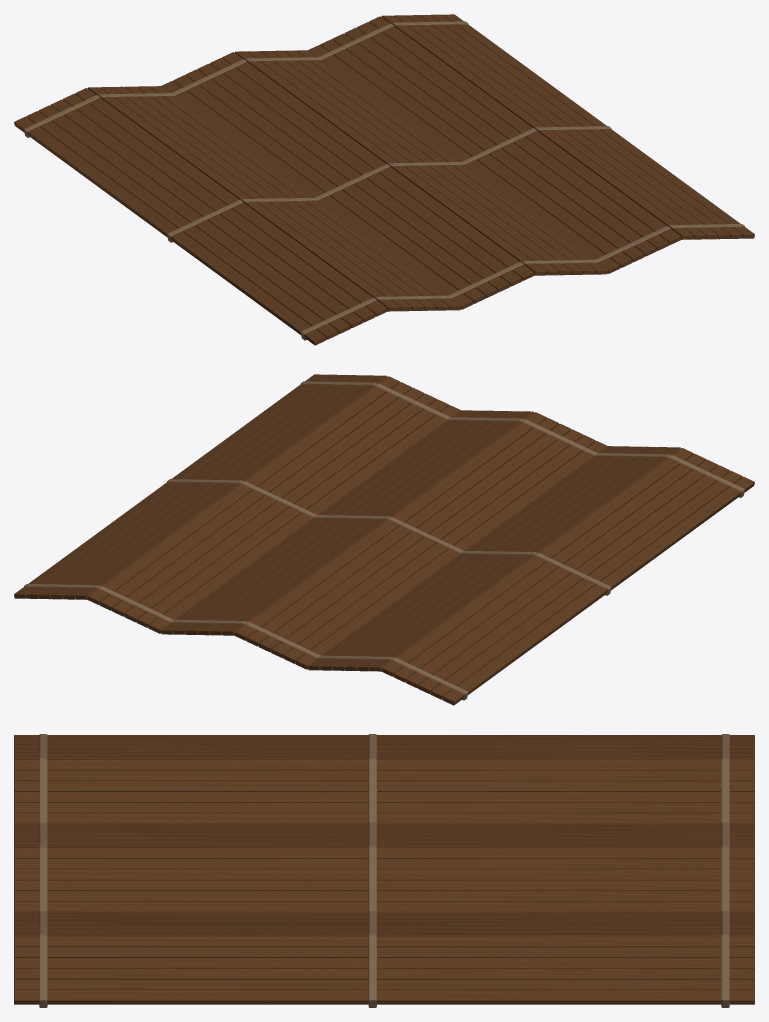
The model's file is retreat_expanded_a5_roof.glb.
3 renders of one model, top to bottom at view 1: azimuth 30°, elevation 25°; view 2: azimuth 150°, elevation 25°; view 3: azimuth 270°, elevation 25°, orthographic. The views are drawn at different scales.
Visible parts, largest first — view 1: CANON_Wood_Roof_Bay_1, CANON_Wood_Roof_Bay_2, CANON_Wood_Roof_Bay_3; view 2: CANON_Wood_Roof_Bay_1, CANON_Wood_Roof_Bay_3, CANON_Wood_Roof_Bay_2; view 3: CANON_Wood_Roof_Bay_3, CANON_Wood_Roof_Bay_1, CANON_Wood_Roof_Bay_2.
Boxes of the visible parts, x1,y1,x2,y2 form: CANON_Wood_Roof_Bay_1: (14,86,460,345); CANON_Wood_Roof_Bay_2: (161,50,607,309); CANON_Wood_Roof_Bay_3: (308,14,754,273); CANON_Wood_Roof_Bay_1: (308,446,754,705); CANON_Wood_Roof_Bay_3: (14,374,460,633); CANON_Wood_Roof_Bay_2: (161,410,607,669); CANON_Wood_Roof_Bay_3: (14,911,754,1007); CANON_Wood_Roof_Bay_1: (14,734,754,823); CANON_Wood_Roof_Bay_2: (14,822,754,911).
Size of the model in its own units: 12.03 by 0.6222 by 14.18.
Materials: 2 (1 with a texture image).
